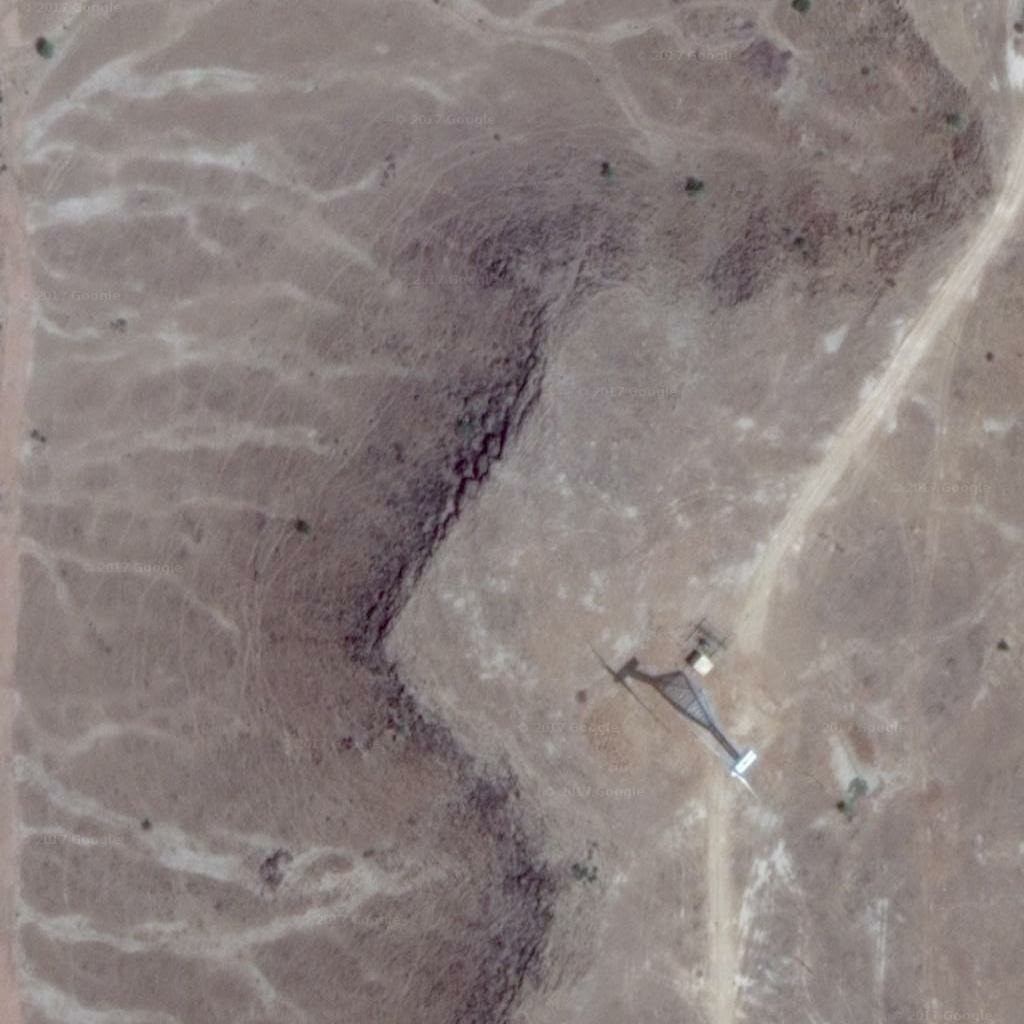Windmill: (576, 632, 739, 707)
